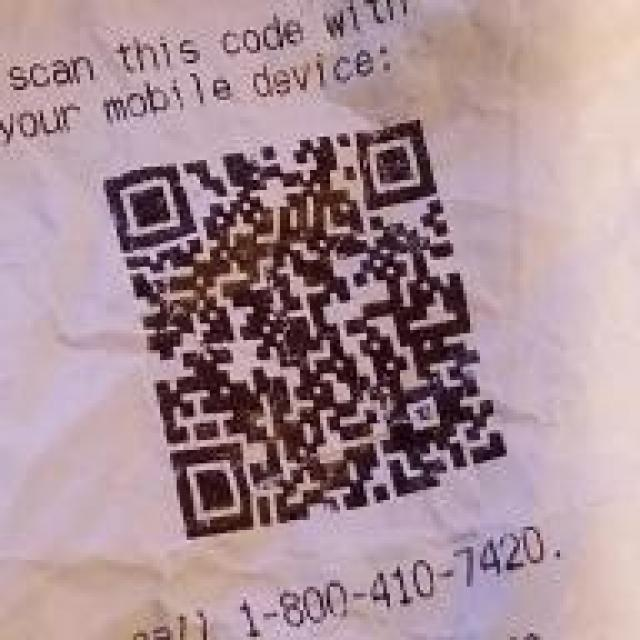qr_code: (102, 119, 509, 540)
